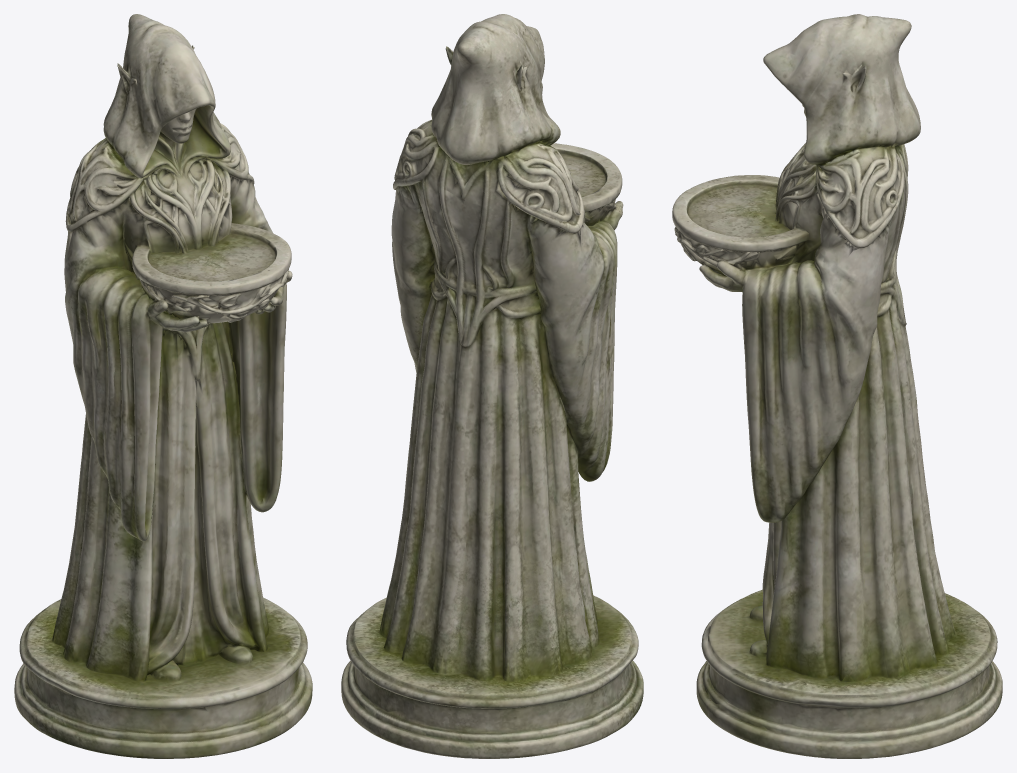
Rendered from court_statue.glb.
3 views of the same model, side by side, from view 1: azimuth 30°, elevation 25°; view 2: azimuth 150°, elevation 25°; view 3: azimuth 270°, elevation 25° (orthographic).
Visible parts, largest first — view 1: tripo_node_84b38f50-009d-4527-a77b-fe9746cde244; view 2: tripo_node_84b38f50-009d-4527-a77b-fe9746cde244; view 3: tripo_node_84b38f50-009d-4527-a77b-fe9746cde244.
Boxes of the visible parts, x1=… form: tripo_node_84b38f50-009d-4527-a77b-fe9746cde244: x1=14, y1=14, x2=312, y2=758; tripo_node_84b38f50-009d-4527-a77b-fe9746cde244: x1=341, y1=14, x2=643, y2=758; tripo_node_84b38f50-009d-4527-a77b-fe9746cde244: x1=672, y1=14, x2=1002, y2=758.
Size of the model in its own units: 0.3989 by 0.9792 by 0.4316.
Materials: 1 (1 with a texture image).
